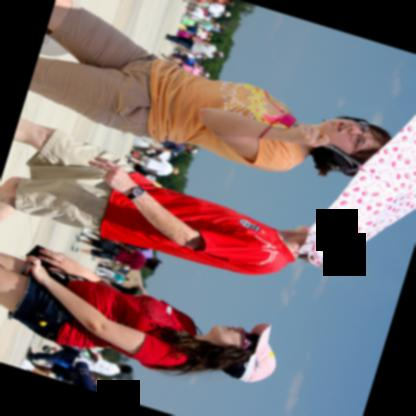handbag: (22, 244, 55, 269)
